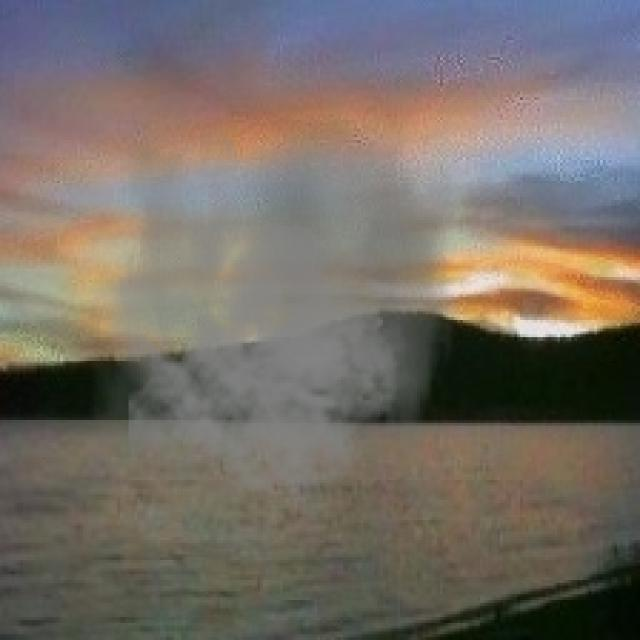smoke: (89, 120, 457, 506)
